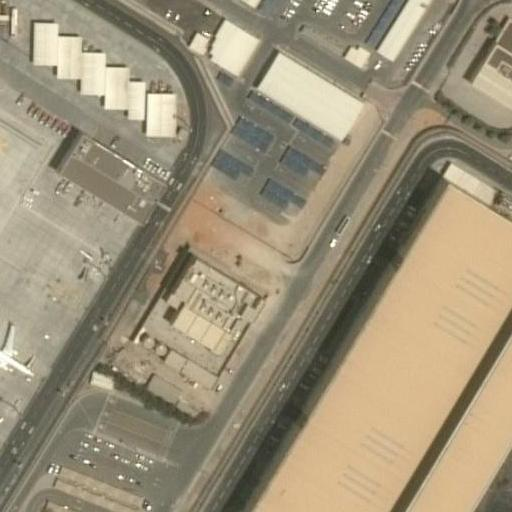Aircraft: (0, 318, 39, 381)
